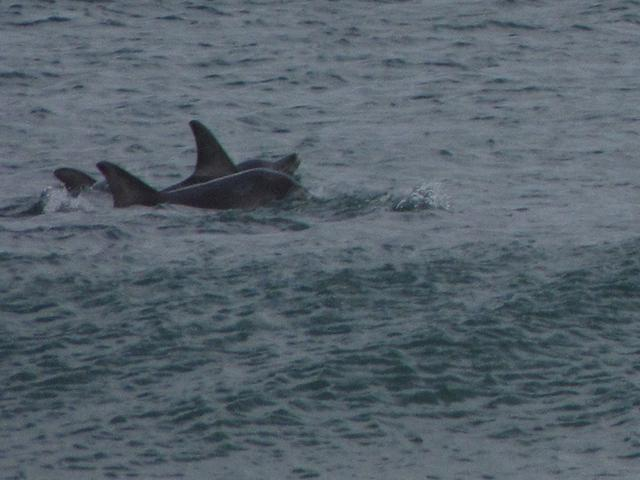dolphin: (27, 103, 360, 215)
